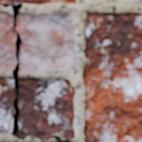brick: (83, 13, 141, 141), (0, 0, 75, 3)
broken_brick: (17, 12, 75, 75), (19, 77, 75, 140), (0, 11, 14, 72), (0, 76, 12, 134)
crack: (0, 2, 28, 139), (37, 134, 71, 141)
